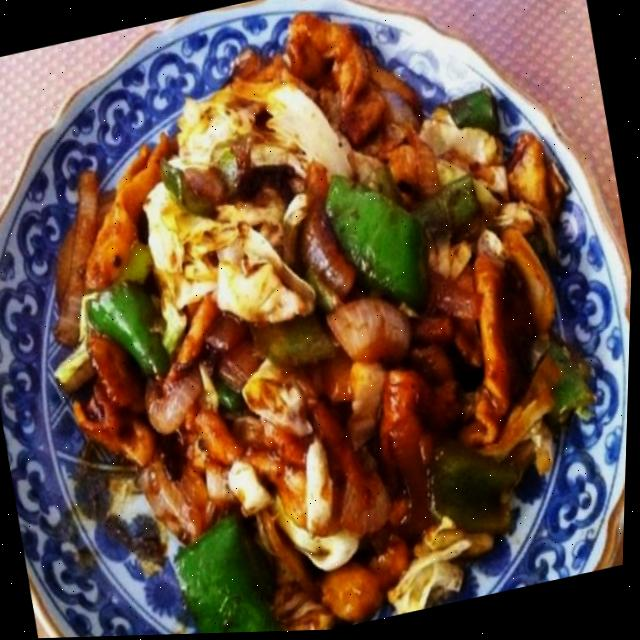面包点心: (221, 239, 524, 623)
